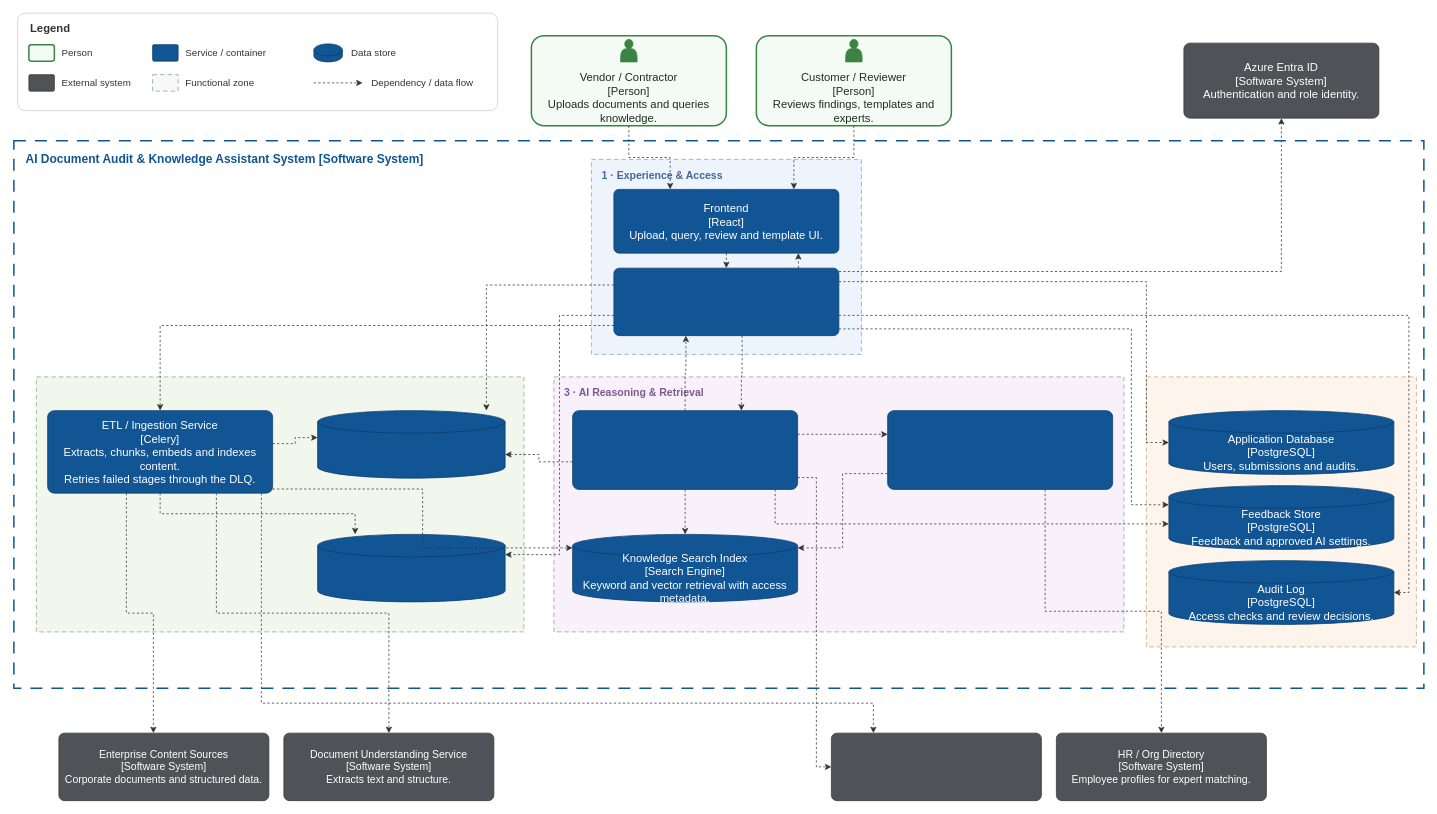
Image size: 1437x814. Some labels were removed from this diagram. Each missing label, with the box of its shape:
2 · Ingestion & Content Processing: (36, 376, 524, 632)
4 · Business Data & Governance One PostgreSQL deployment: (1146, 376, 1416, 647)
AI Service [FastAPI + Celery] Grounded Q&A, summaries and audit findings.: (572, 410, 798, 489)
Backend Service [FastAPI] Orchestrates APIs, access and notifications.: (613, 267, 839, 336)
Cache & Message Broker [Redis] Task queues, DLQ and response cache.: (317, 410, 505, 478)
Document Storage [Object Storage] Immutable originals and source copies.: (317, 534, 505, 602)
Expert Service [FastAPI] Finds experts from document topics.: (887, 410, 1113, 489)
LLM & Embedding Service [Software System] Embeddings and grounded generation.: (831, 732, 1041, 801)
